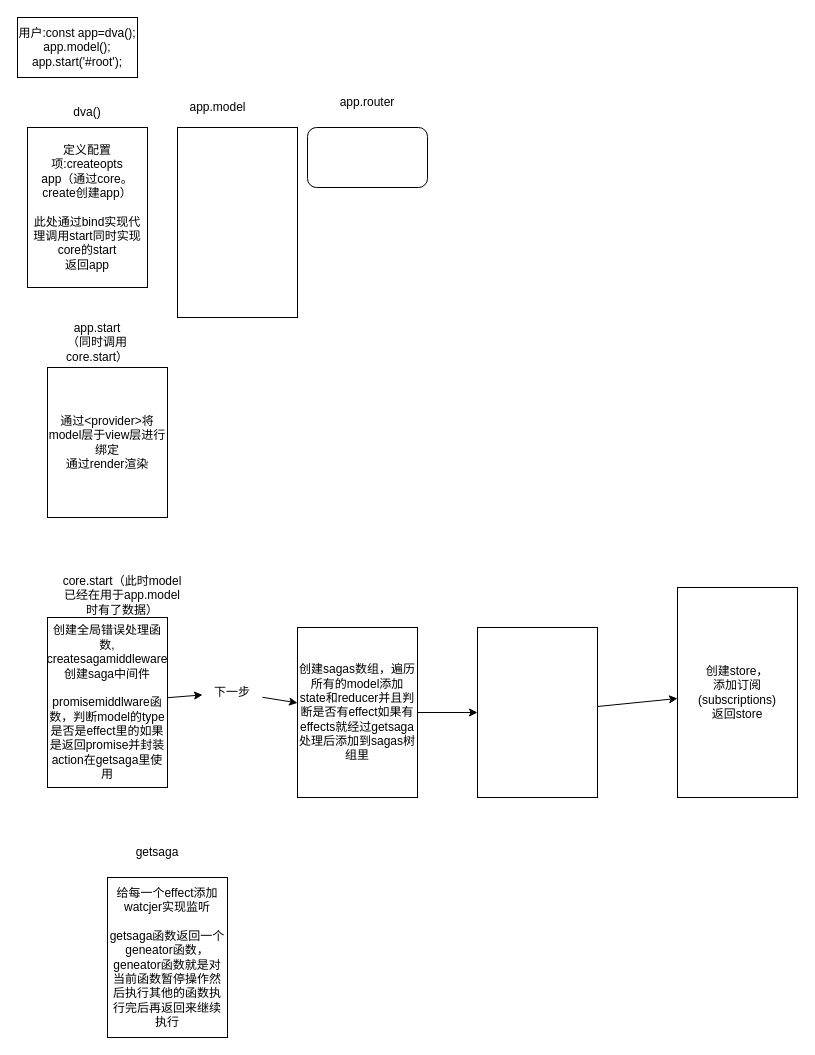
Some shapes in this 815 by 1055 pixel diagram are drawn without their labels. Here are the shapes that lost their labels. From the top down, the centre of each, then its label:
[367,157]: 添加路由
[237,222]: 通过调用core.create时给app添加的model方法，调用得到model数组
[537,712]: 遍历sagas数组，执行 sagamiddlewore.run 实现对effect的监听
